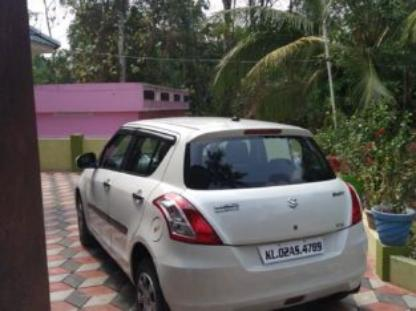car: (65, 99, 379, 310)
